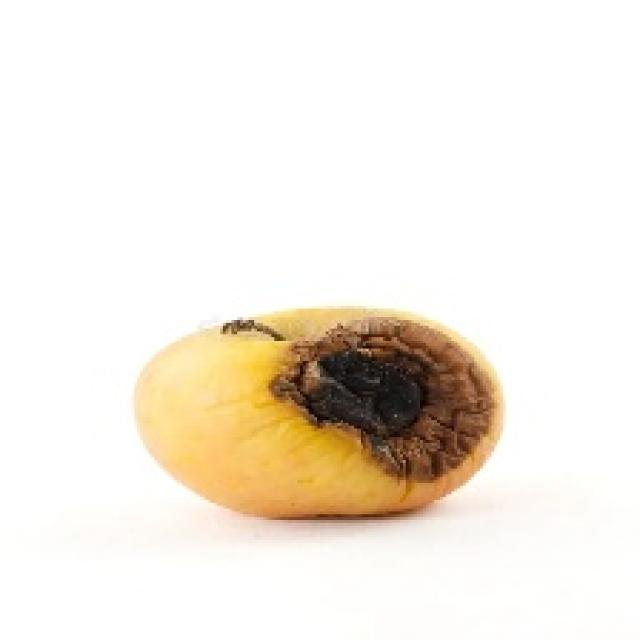rotten_apple: (140, 311, 502, 516)
